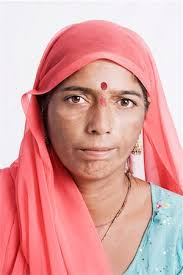indian_female: (32, 49, 156, 198)
